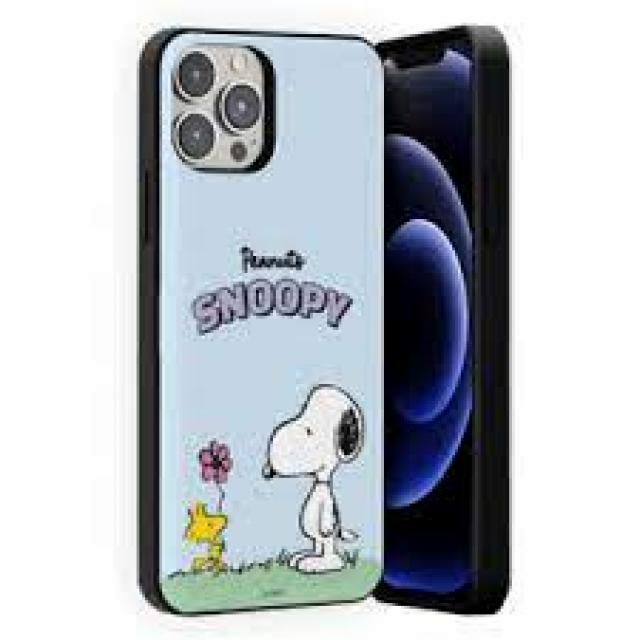lens_back: (170, 104, 219, 168), (216, 78, 266, 136), (176, 51, 214, 99)
phone: (135, 23, 388, 618), (373, 21, 521, 621)
